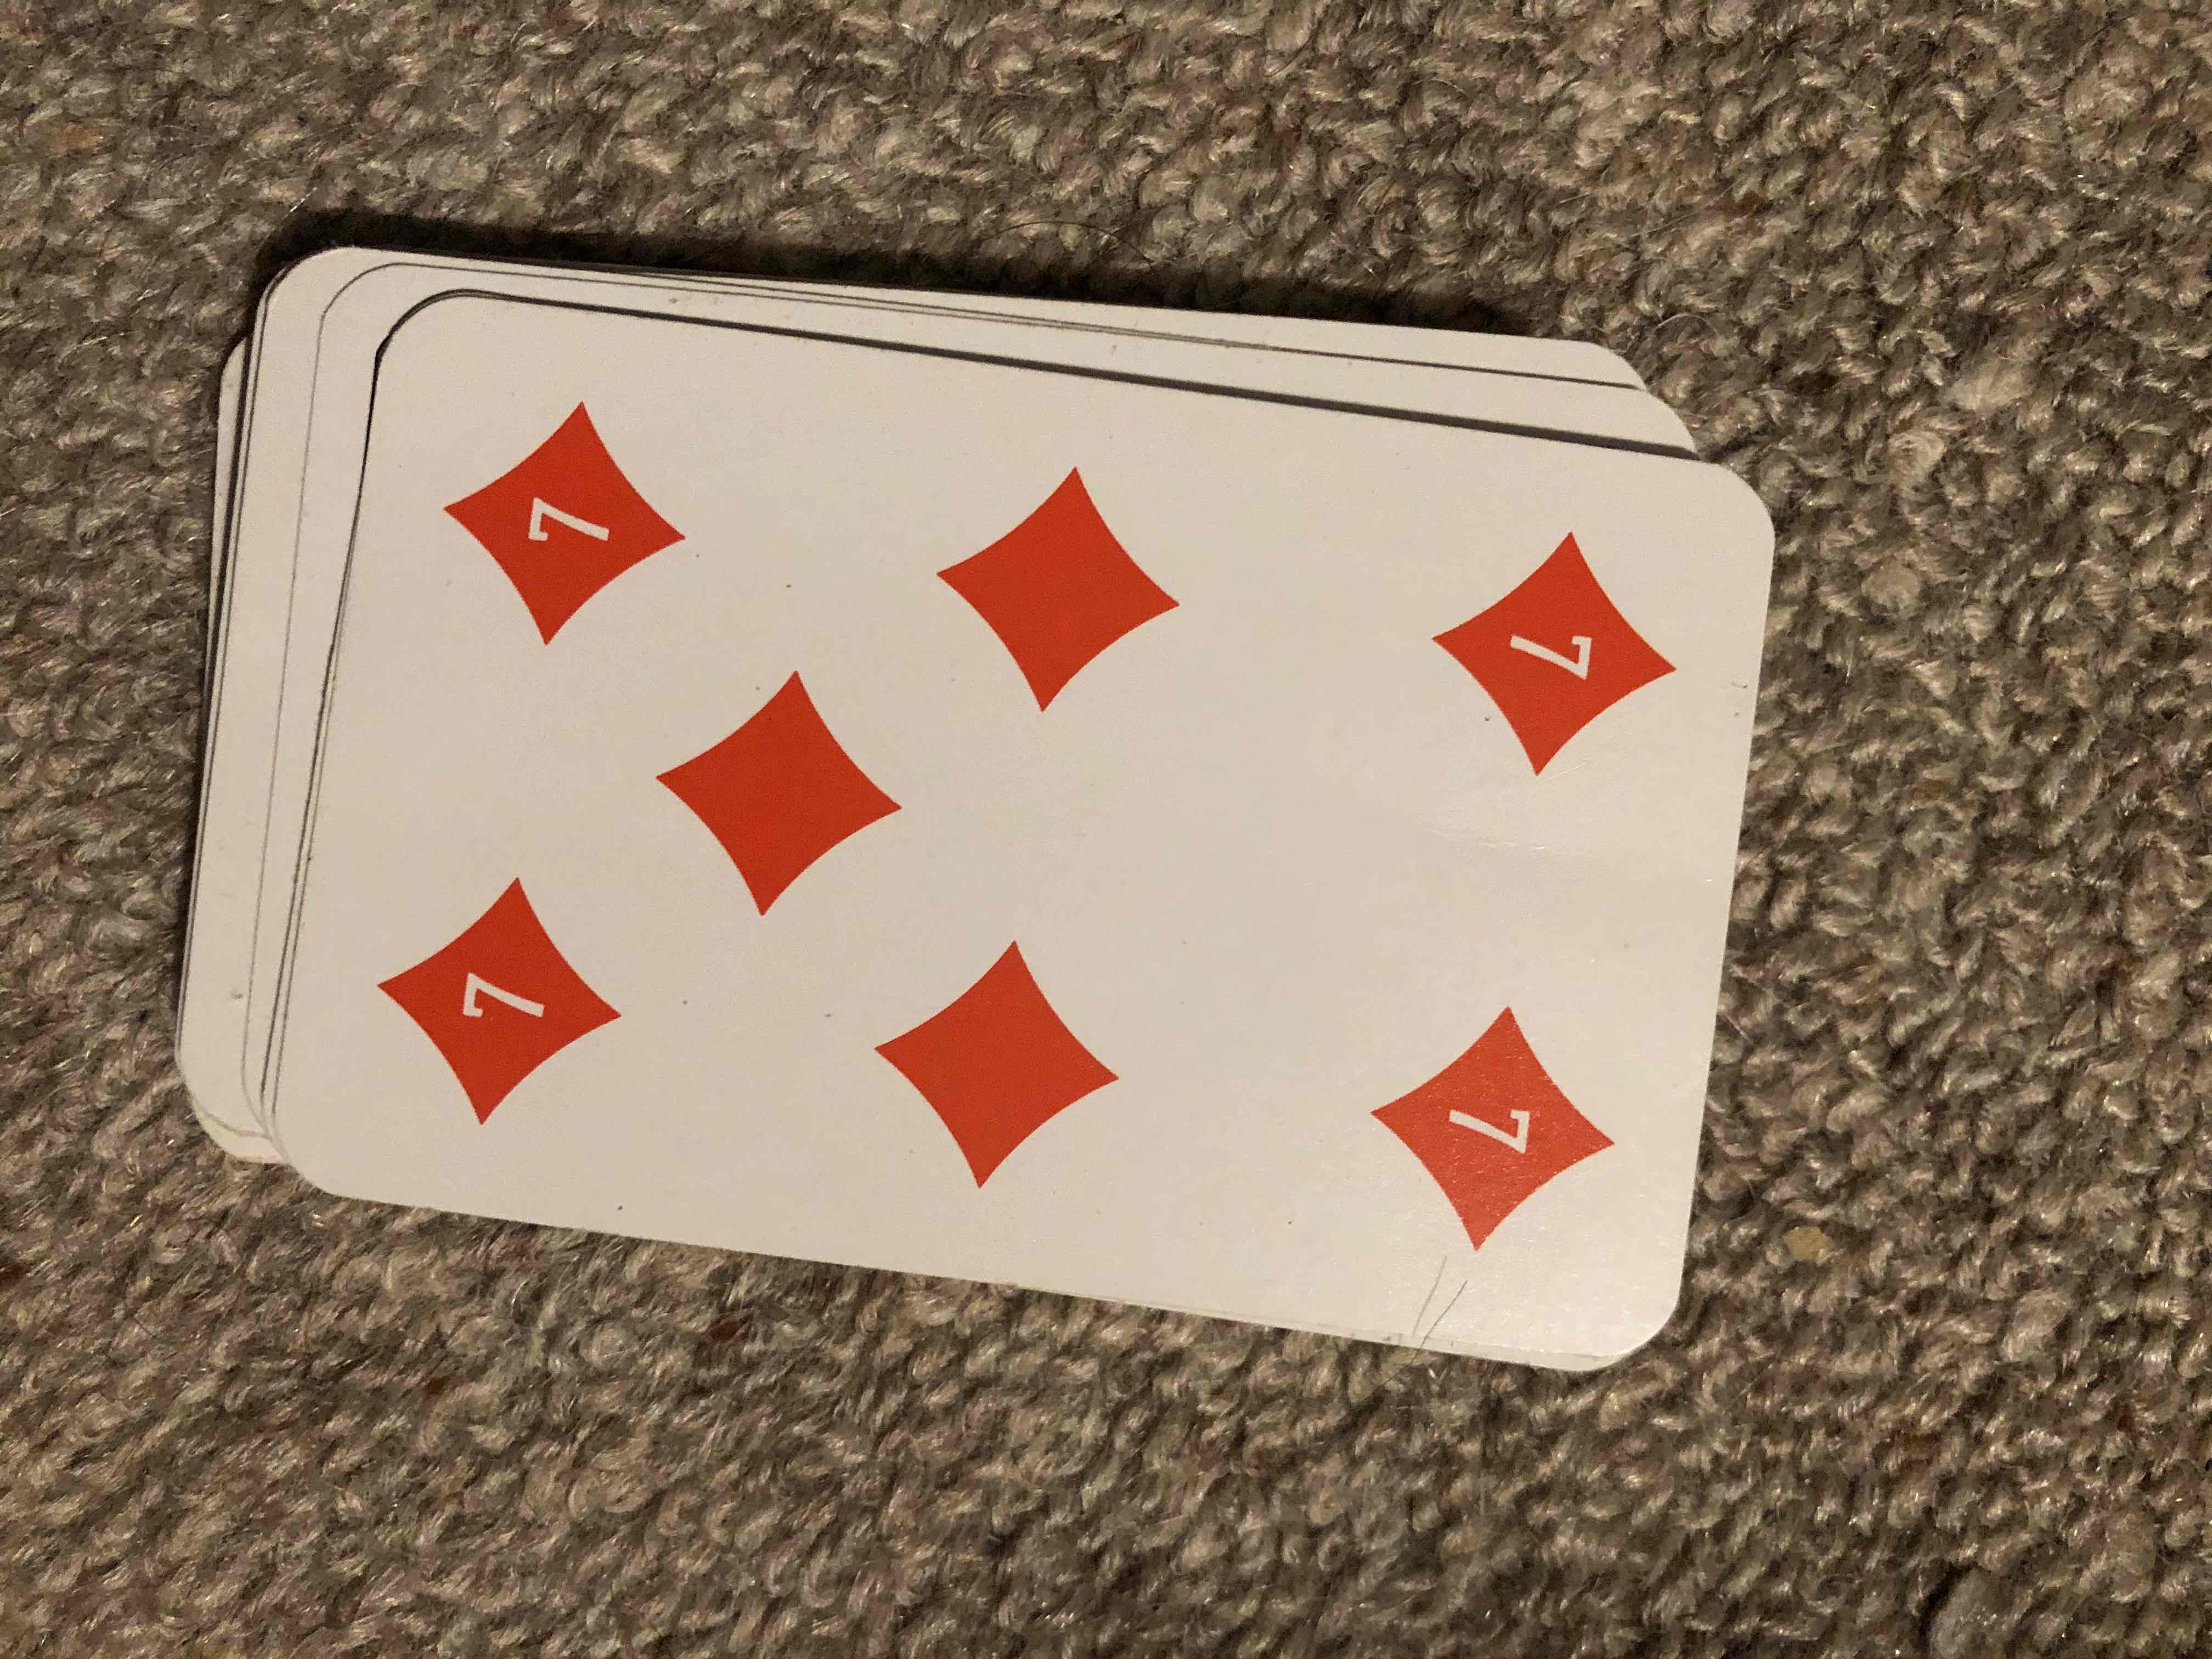diamond7: (308, 270, 1726, 1333)
